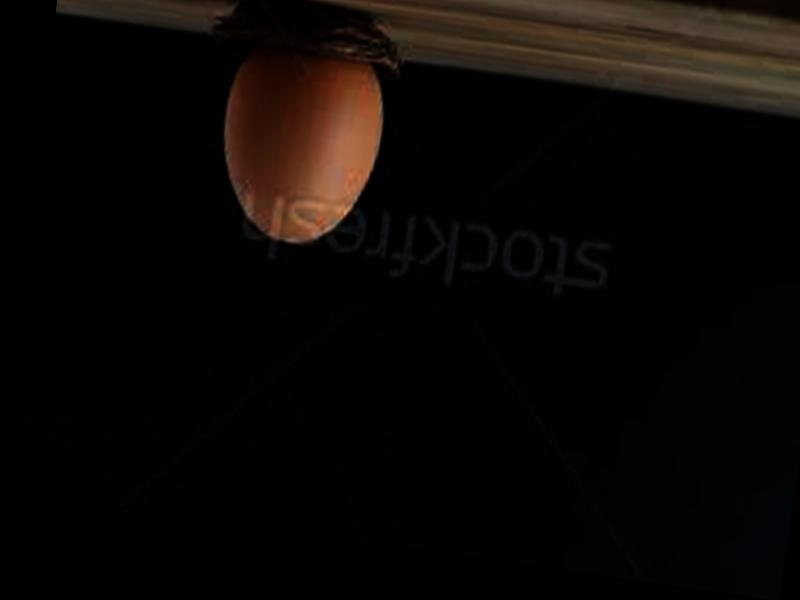Eggs: (206, 38, 389, 252)
